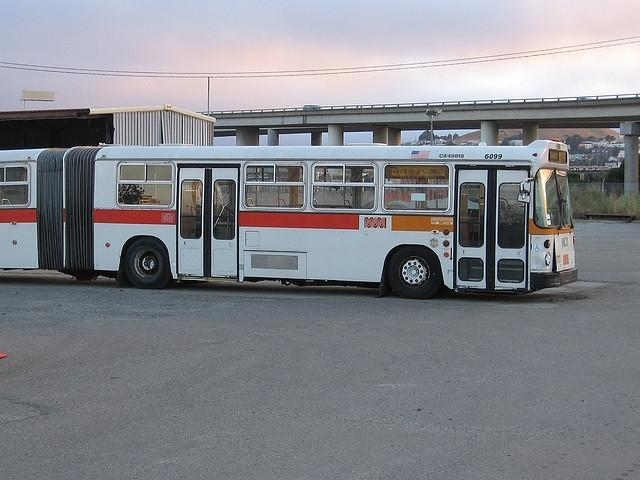bus: (2, 136, 579, 294)
